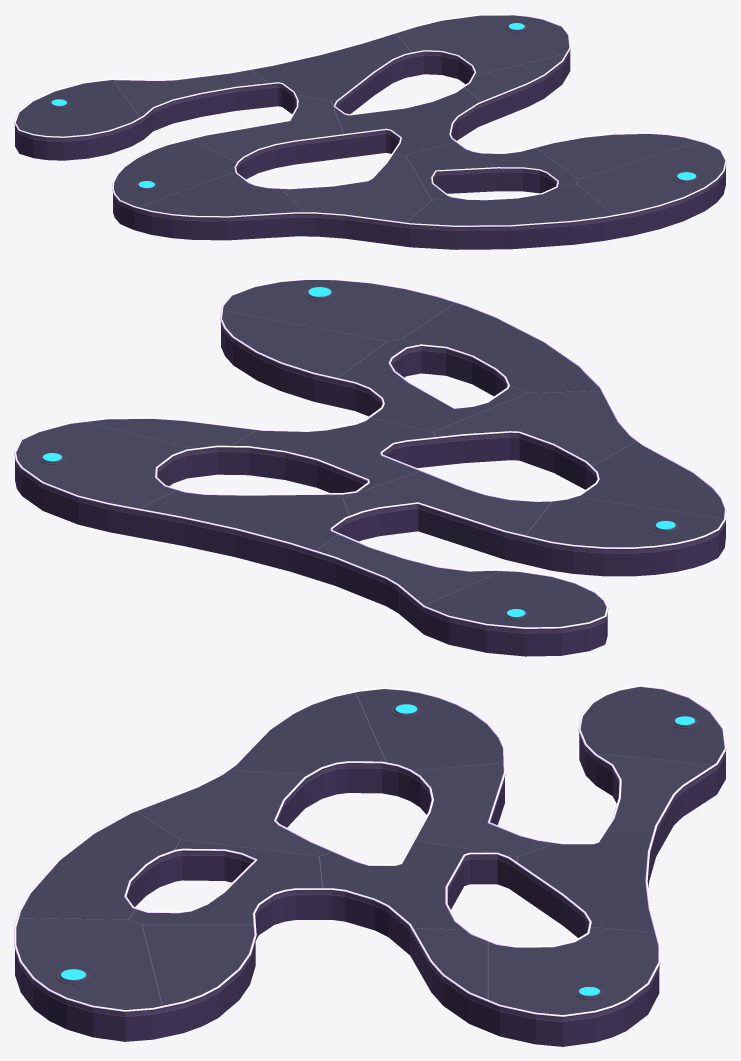
Rendered from momentum_circuit_foreground_v3.glb.
The picture shows the model from 3 angles, top to bottom: view 1: azimuth 30°, elevation 25°; view 2: azimuth 150°, elevation 25°; view 3: azimuth 270°, elevation 25°; orthographic projection. The views are drawn at different scales.
Parts seen in each view (by area): view 1: Foreground_V3DeckPanelA, Foreground_V3DeckPanelB, Foreground_V3SidewallLow, Foreground_V3SidewallHigh, StaticDeckRim, PlatformInsetSeamBed, Foreground_StabilizerCyanInset; view 2: Foreground_V3DeckPanelA, Foreground_V3DeckPanelB, Foreground_V3SidewallLow, Foreground_V3SidewallHigh, StaticDeckRim, PlatformInsetSeamBed; view 3: Foreground_V3DeckPanelA, Foreground_V3DeckPanelB, Foreground_V3SidewallLow, StaticDeckRim, Foreground_V3SidewallHigh, PlatformInsetSeamBed, Foreground_StabilizerCyanInset, Foreground_V3InsetCeramic.
Part boxes in pixels (x1,y1,x2,y2): Foreground_V3DeckPanelA: (16, 33, 613, 225); Foreground_V3DeckPanelB: (114, 15, 724, 222); Foreground_V3SidewallLow: (15, 53, 725, 249); Foreground_V3SidewallHigh: (14, 15, 726, 230); StaticDeckRim: (14, 14, 726, 226); PlatformInsetSeamBed: (113, 33, 698, 222); Foreground_StabilizerCyanInset: (51, 23, 696, 187); Foreground_V3DeckPanelA: (140, 303, 724, 627); Foreground_V3DeckPanelB: (16, 280, 635, 605); Foreground_V3SidewallLow: (15, 325, 725, 656); Foreground_V3SidewallHigh: (15, 280, 725, 633); StaticDeckRim: (14, 278, 726, 628); PlatformInsetSeamBed: (86, 303, 723, 605); Foreground_V3DeckPanelA: (19, 687, 724, 931); Foreground_V3DeckPanelB: (16, 753, 712, 1014); Foreground_V3SidewallLow: (15, 736, 725, 1046); StaticDeckRim: (14, 685, 726, 1016); Foreground_V3SidewallHigh: (15, 687, 726, 1022); PlatformInsetSeamBed: (19, 693, 712, 1005); Foreground_StabilizerCyanInset: (61, 704, 694, 995); Foreground_V3InsetCeramic: (56, 704, 699, 999).
Bounding box in the file's own units: 94.52 × 4.37 × 86.03.
